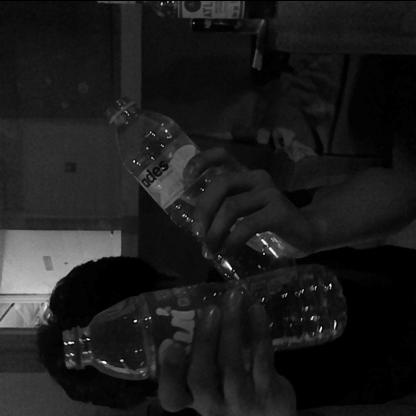plastic_bottles: (104, 92, 296, 276), (57, 262, 348, 380)
